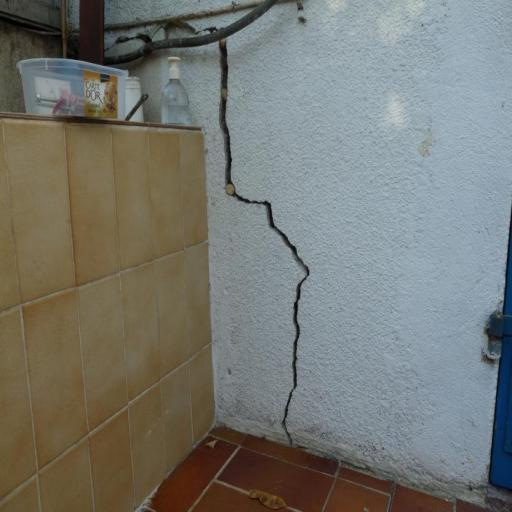spalling: (212, 46, 320, 440)
